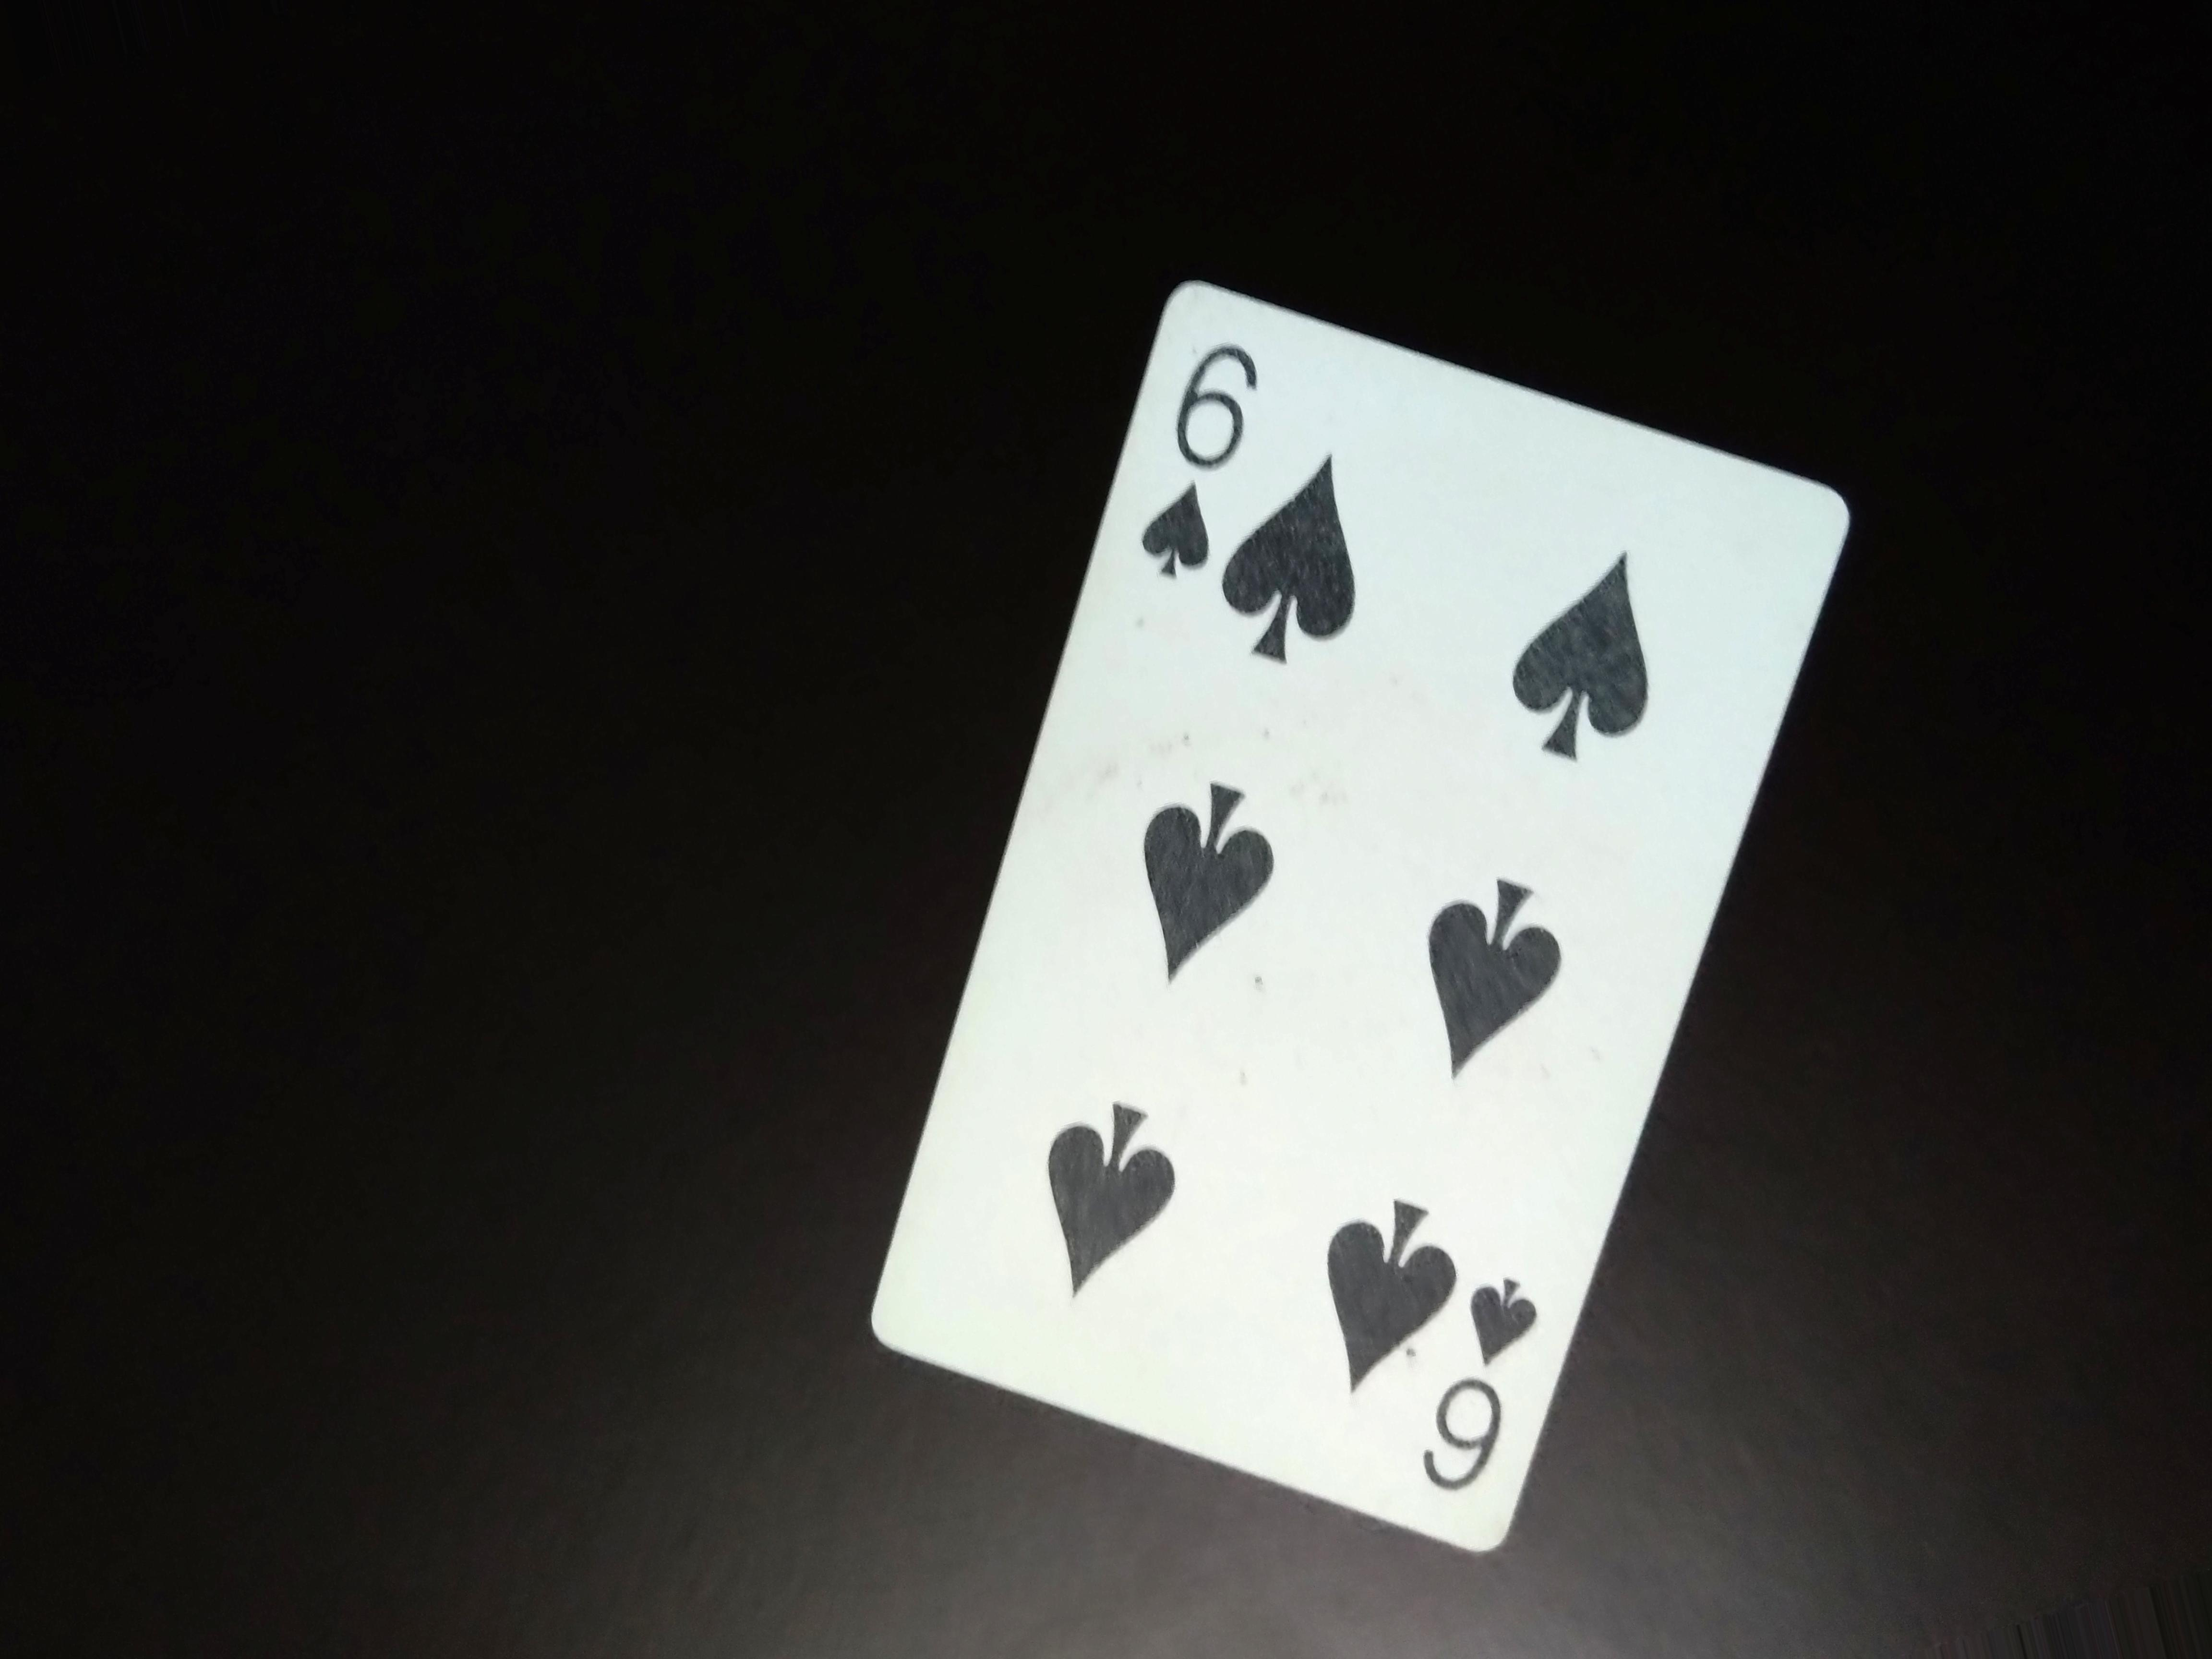6S: (1134, 288, 1270, 606)
